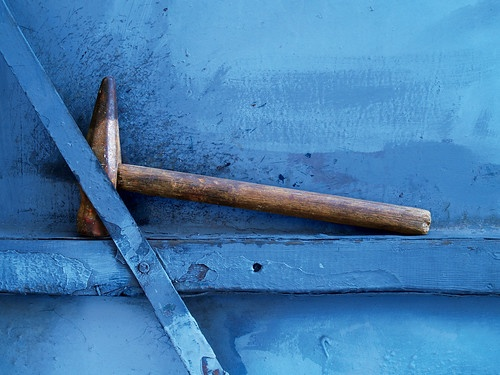hammer: (78, 81, 435, 237)
